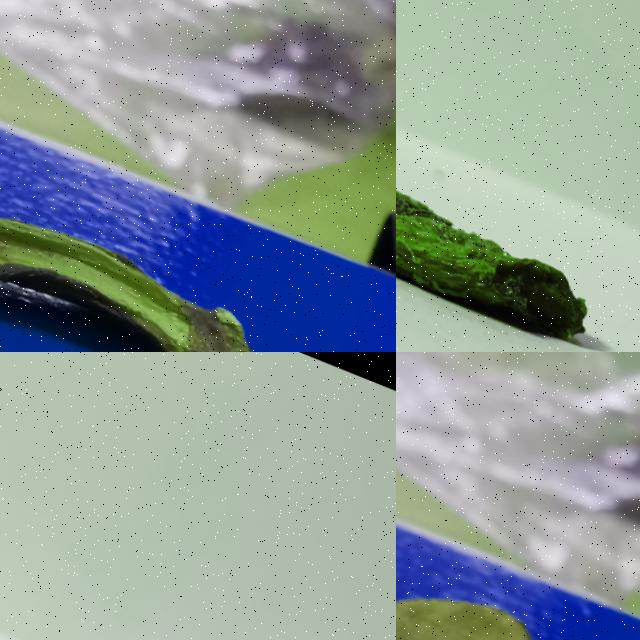Flat_cocoabeans: (0, 123, 346, 351), (396, 63, 639, 351), (396, 479, 639, 639)
